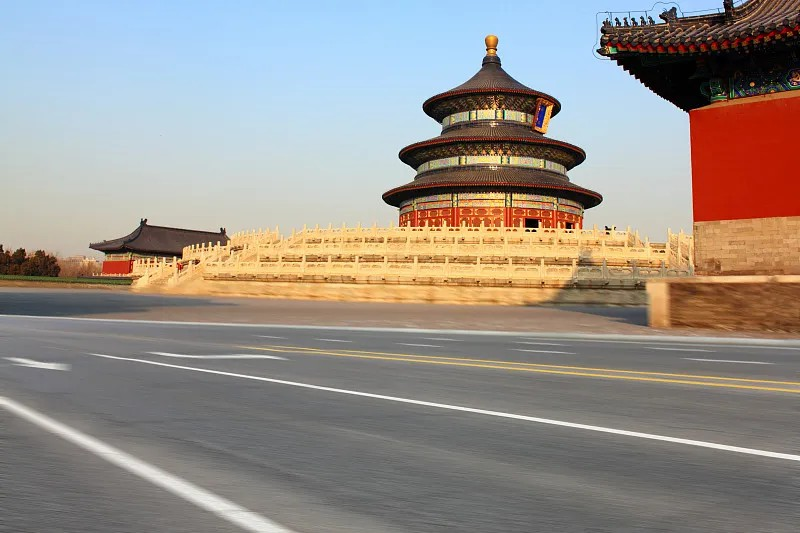Heaven: (381, 35, 604, 228)
